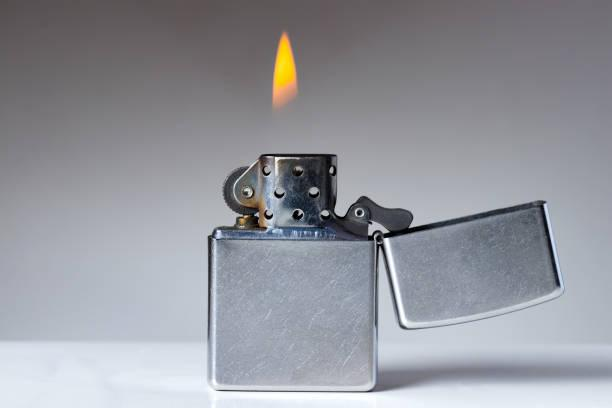Fire: (268, 29, 304, 111)
